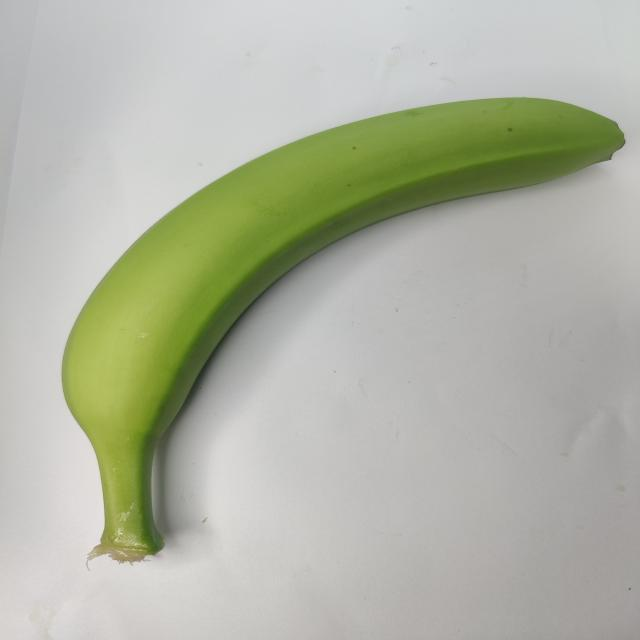raw: (30, 72, 630, 582)
